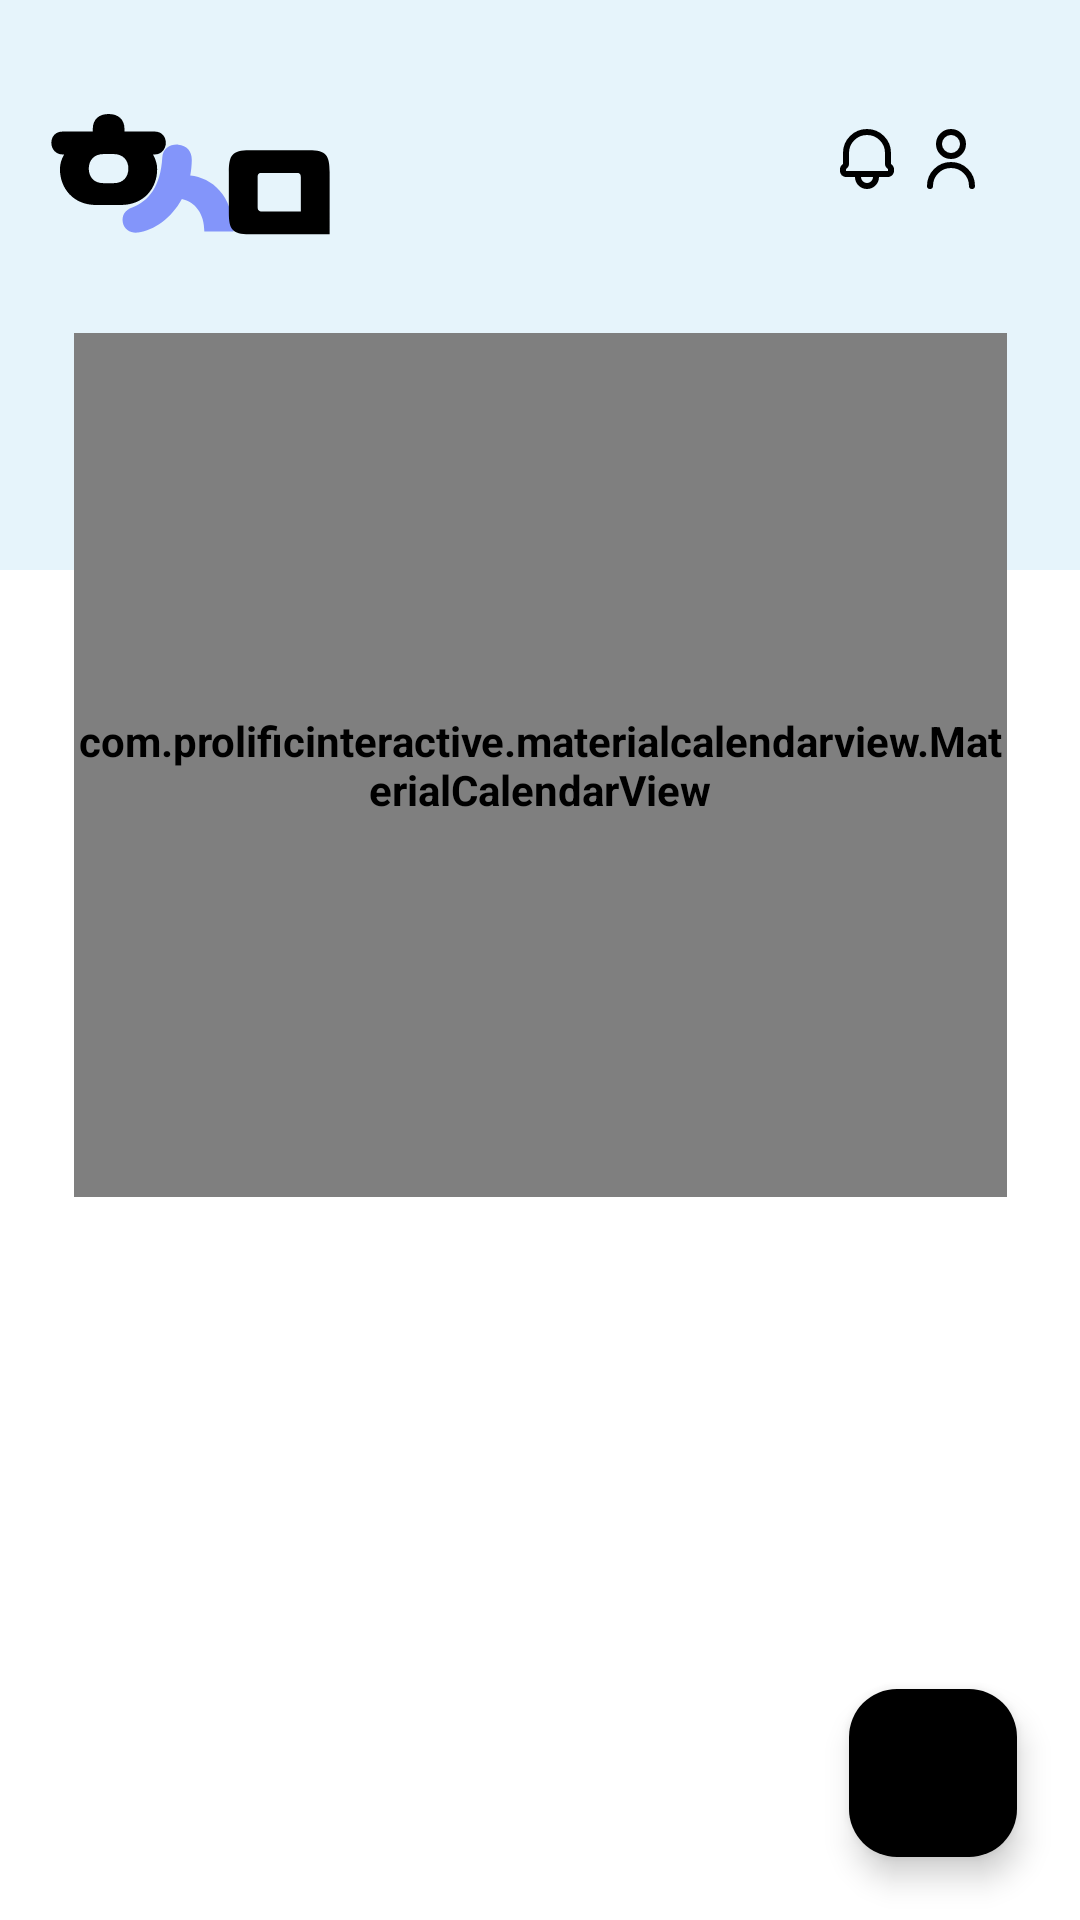

Where icons sit on this 1080x1920 app screen, as (x1, y1, x2, y2):
alarm bell: (840, 129, 894, 189)
mypage: (927, 129, 975, 189)
